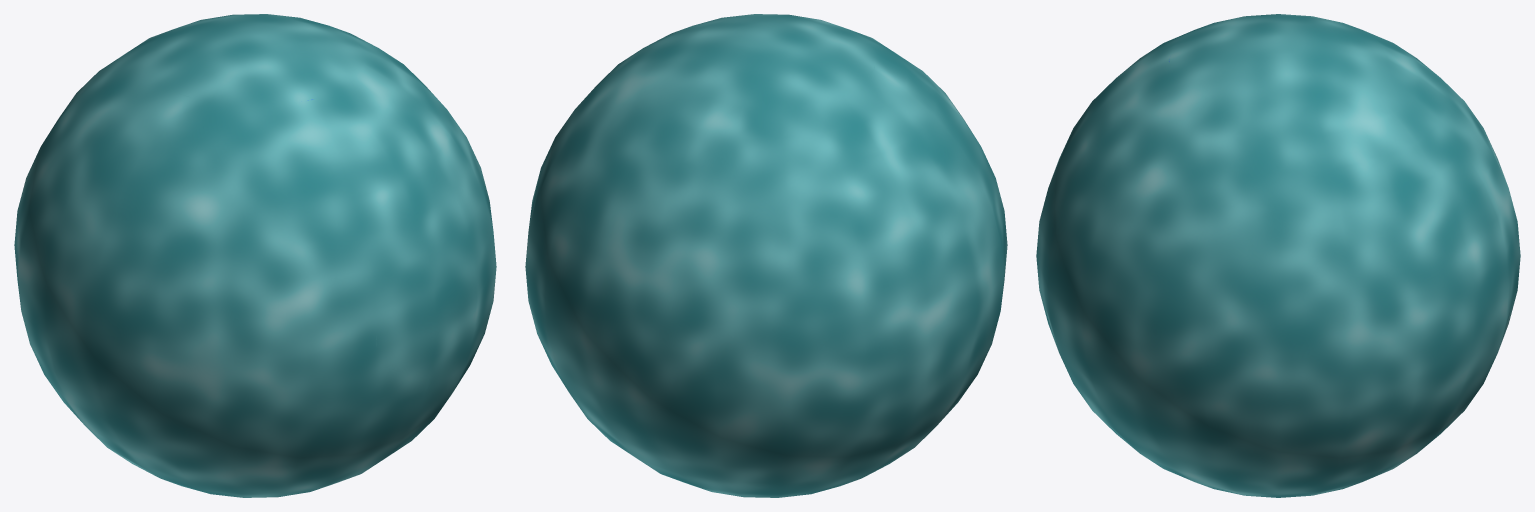
File: Zygote.fbx
The picture shows the model from 3 angles, left to right: view 1: azimuth 30°, elevation 25°; view 2: azimuth 150°, elevation 25°; view 3: azimuth 270°, elevation 25°; orthographic projection.
Parts seen in each view (by area): view 1: REPRODUCTIONEPRODUCTIONINANIMALS:pSphere12; view 2: REPRODUCTIONEPRODUCTIONINANIMALS:pSphere12; view 3: REPRODUCTIONEPRODUCTIONINANIMALS:pSphere12.
Boxes of the visible parts, x1,y1,x2,y2 form: REPRODUCTIONEPRODUCTIONINANIMALS:pSphere12: (14,14,496,497); REPRODUCTIONEPRODUCTIONINANIMALS:pSphere12: (525,14,1007,497); REPRODUCTIONEPRODUCTIONINANIMALS:pSphere12: (1036,14,1520,497).
Size of the model in its own units: 144 by 144 by 144.
1 material, 1 textured.
